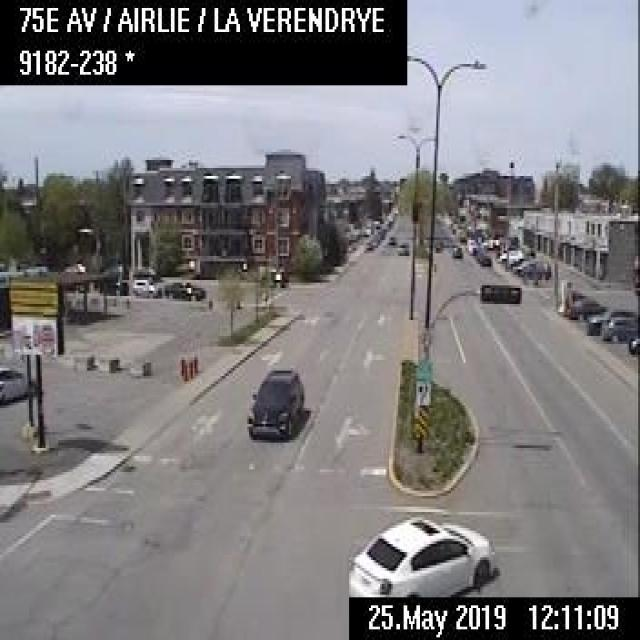construction: (178, 354, 184, 373), (192, 352, 198, 371), (181, 359, 187, 378), (187, 358, 192, 378)
vehicle: (346, 512, 494, 595), (243, 365, 306, 440), (0, 361, 36, 403), (599, 311, 637, 340), (567, 294, 604, 323), (161, 277, 206, 299), (512, 256, 550, 280), (584, 306, 608, 335), (129, 275, 160, 296), (477, 252, 493, 266), (395, 239, 409, 253), (364, 238, 376, 254), (385, 231, 396, 244), (451, 243, 461, 257)
